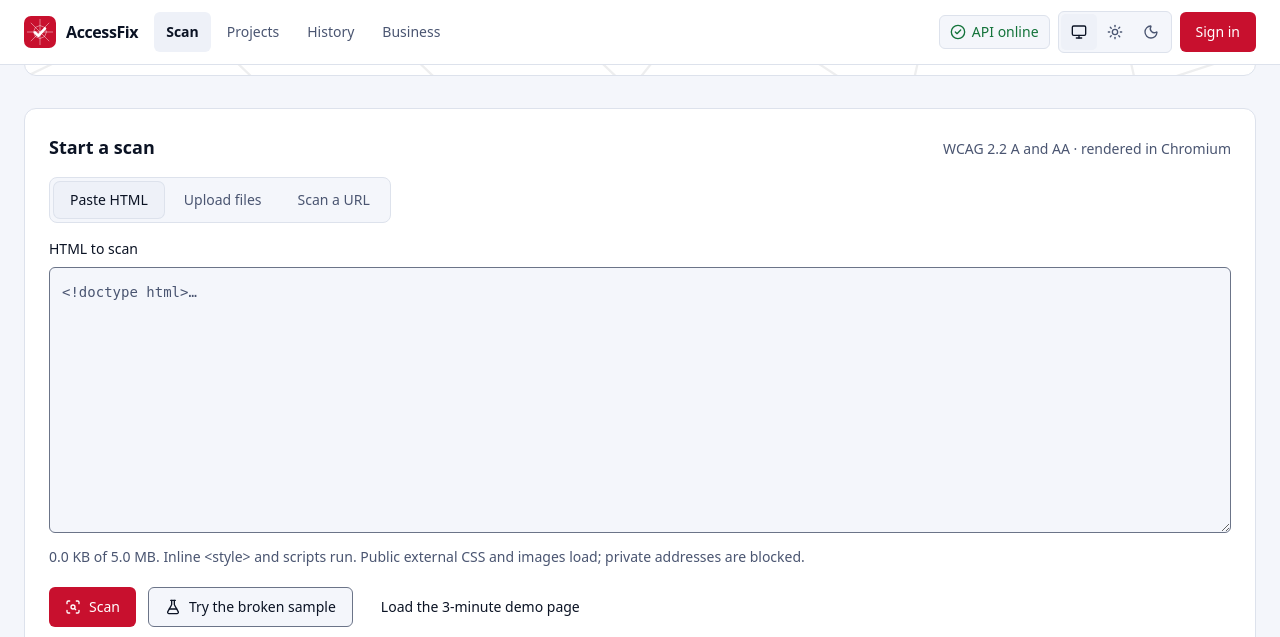
repairs › suggests fixes, shows a verified diff, then applies and raises the score
(page scrolled)
Expected: the text "API online" is shown, [950,22,1038,42]
Type "<p>hi</p>" into the text box labelled "HTML to scan" at coordinates (640, 400), box [49,267,1231,533]
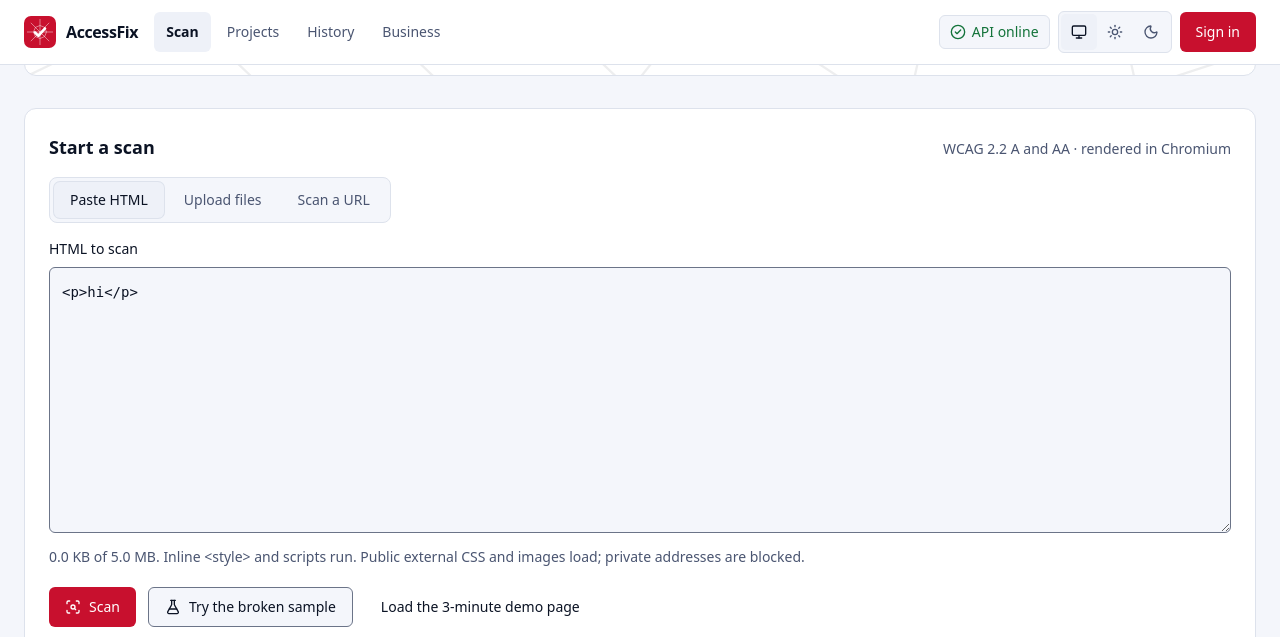
Click the button "Scan" at coordinates (92, 607), box [49,587,136,627]
(page scrolled)
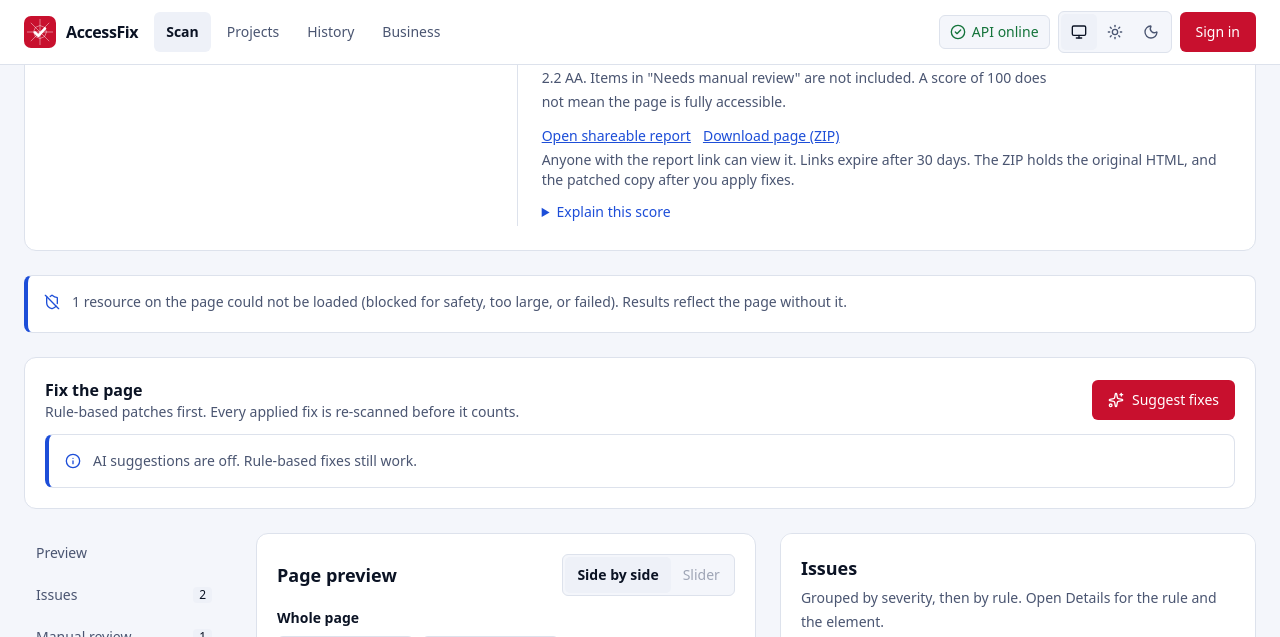
Click the button "Suggest fixes" at coordinates (1164, 400), box [1092,380,1235,420]
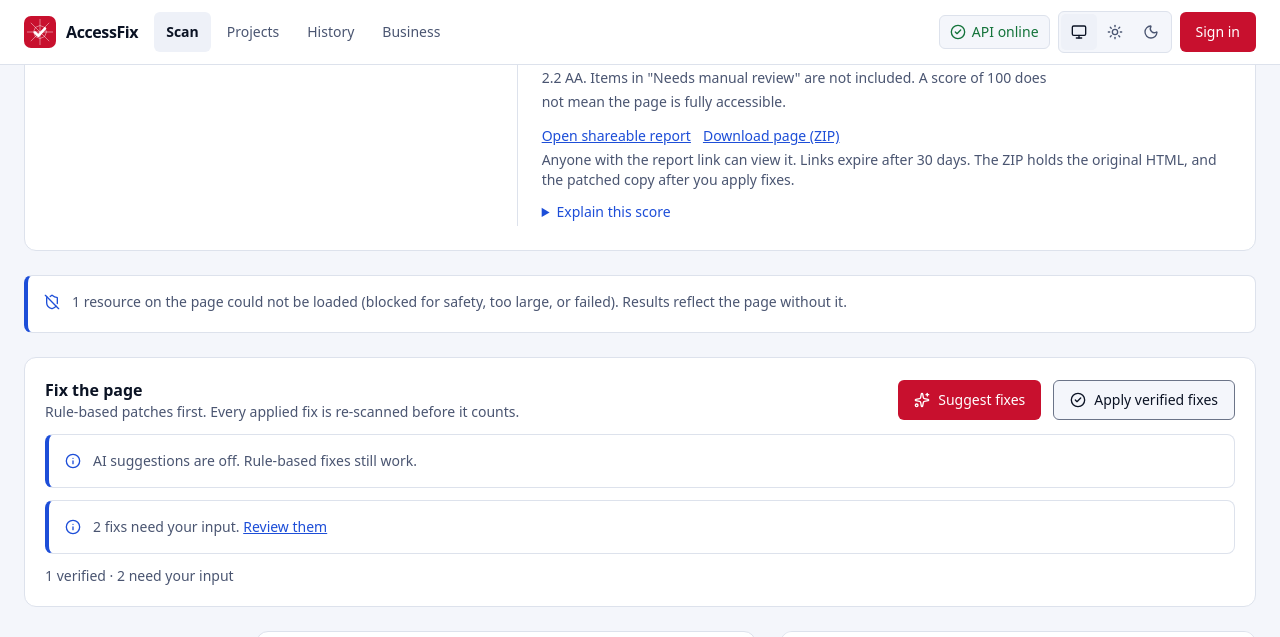
Expected: the text "AI suggestions are off. Rule-based fixes still work." is shown, [93,451,417,470]
Expected: the text "1 verified · 2 need your input" is shown, [45,566,234,585]
Click the button "Apply verified fixes" at coordinates (1144, 400), box [1053,380,1235,420]
(page scrolled)
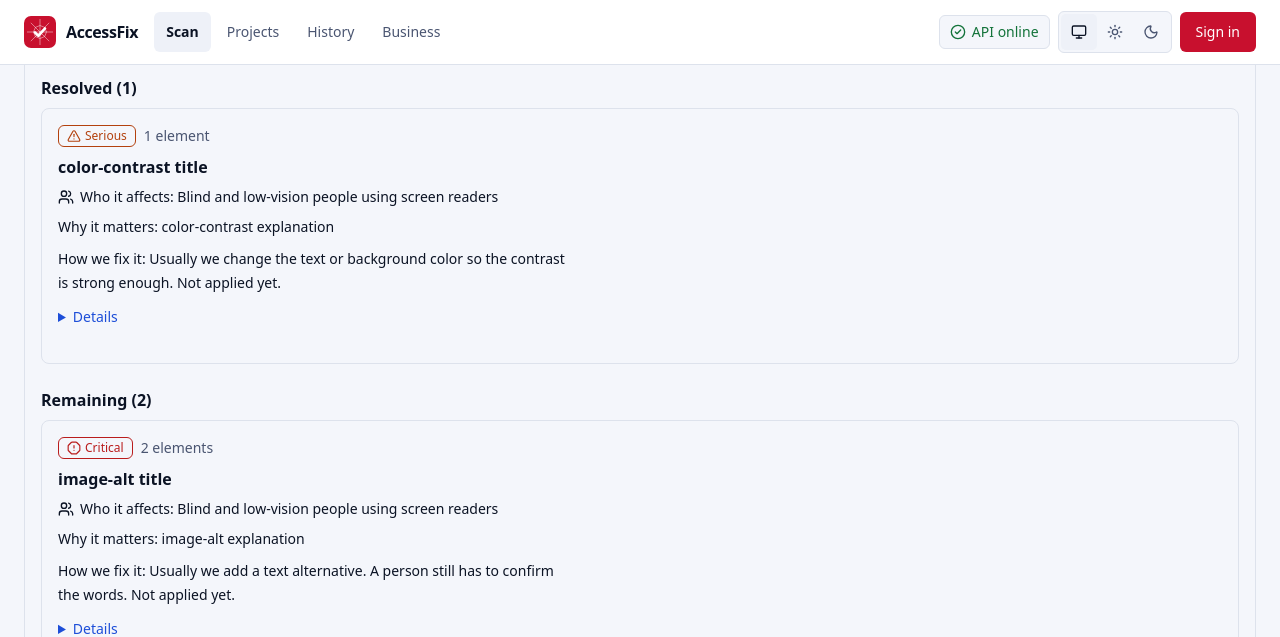
Expected: the heading "Resolved (1)" is shown, [41,77,137,99]
Expected: the heading "Remaining (2)" is shown, [41,389,152,411]
